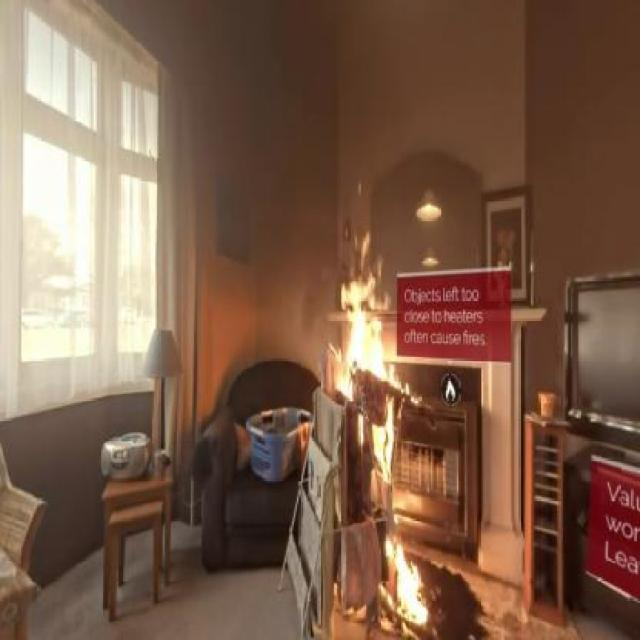fire: (336, 244, 396, 406), (380, 506, 432, 640)
smoke: (240, 50, 340, 332)
